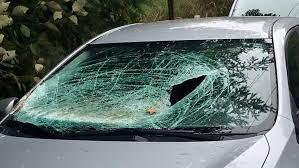Front-Windscreen-Damage: (0, 35, 293, 158)
